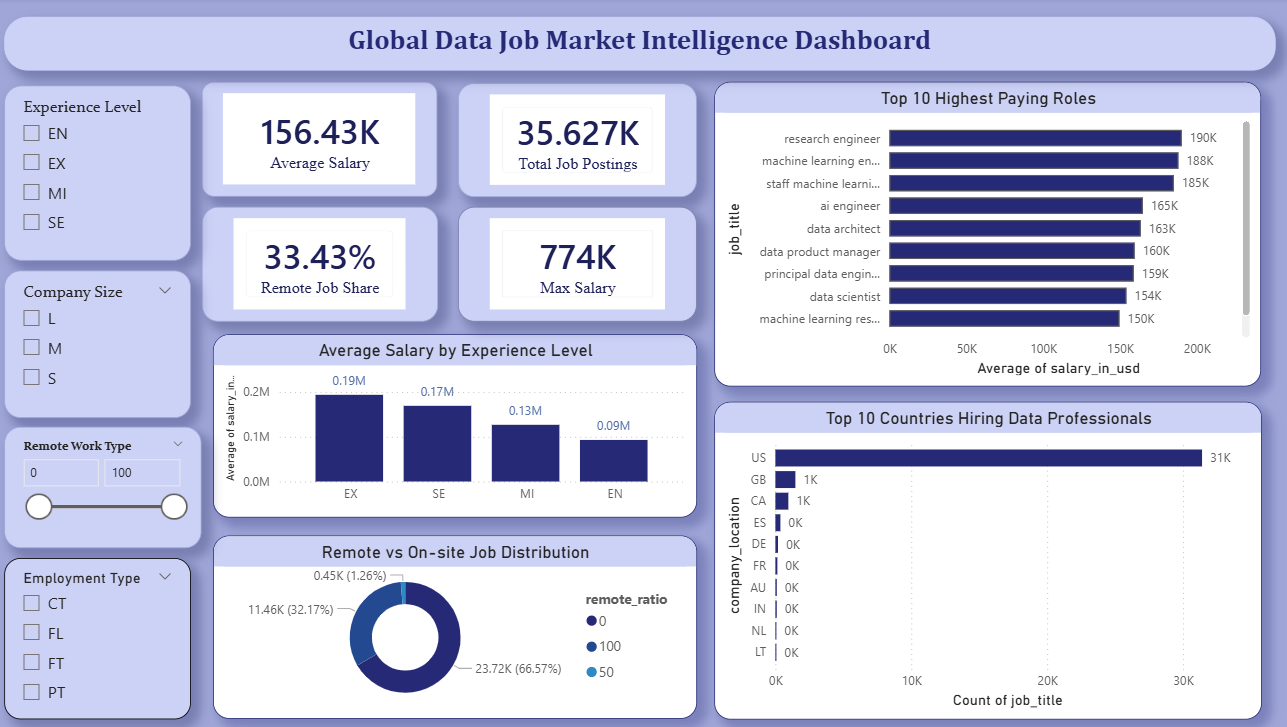

The dashboard page shown, as its layout file describes it:
{"tool":"powerbi","page":{"name":"Dashboard","canvas":[1280,720],"ordinal":0},"visuals":[{"type":"cardVisual","fields":{"Data":["CountNonNull(final_job_market_dataset.job_title)"]},"box":[456.4,83.4,234.4,111.7],"z":0},{"type":"cardVisual","fields":{"Data":["Avg(final_job_market_dataset.salary_in_usd)"]},"box":[204.9,82.2,231,112.9],"z":1000},{"type":"cardVisual","fields":{"Data":["final_job_market_dataset.Remote Job %"]},"box":[204.9,204.9,231.9,112.9],"z":2000},{"type":"clusteredColumnChart","title":"Average Salary by Experience Level","fields":{"Category":["final_job_market_dataset.experience_level"],"Y":["Avg(final_job_market_dataset.salary_in_usd)"]},"box":[216,330.1,474.8,180.4],"z":3000},{"type":"barChart","title":"Top 10 Highest Paying Roles","fields":{"Category":["final_job_market_dataset.job_title"],"Y":["Avg(final_job_market_dataset.salary_in_usd)"]},"box":[708.3,82.3,536.9,299.5],"z":4000},{"type":"donutChart","title":"Remote vs On-site Job Distribution","fields":{"Category":["final_job_market_dataset.remote_ratio"],"Y":["CountNonNull(final_job_market_dataset.job_title)"]},"box":[216,527.6,474.8,180.4],"z":5000},{"type":"clusteredBarChart","title":"Top 10 Countries Hiring Data Professionals","fields":{"Category":["final_job_market_dataset.company_location"],"Y":["CountNonNull(final_job_market_dataset.job_title)"]},"box":[708,396.3,537.4,311.7],"z":6000},{"type":"textbox","box":[11,18.4,1247.9,52.8],"z":7000},{"type":"slicer","title":"Experience Level","fields":{"Values":["final_job_market_dataset.experience_level"]},"box":[11,85.9,182.8,171.8],"z":8000},{"type":"slicer","fields":{"Values":["final_job_market_dataset.company_size"]},"box":[11,267.5,182.8,144.8],"z":9000},{"type":"slicer","fields":{"Values":["final_job_market_dataset.remote_ratio"]},"box":[11,420.9,193.9,119],"z":10000},{"type":"slicer","fields":{"Values":["final_job_market_dataset.employment_type"]},"box":[11,549.7,182.8,158.3],"z":11000},{"type":"cardVisual","fields":{"Data":["final_job_market_dataset.Max Salary"]},"box":[456.4,204.9,234.4,112.9],"z":12000},{"type":"actionButton","box":[1202.5,23.3,56.4,42.9],"z":13000}]}

Visuals, with their boxes in screenshot pixels (x1, y1, x2, y2), scaled from the page's 1280x720 canvas onto the 1287x727 screenshot:
cardVisual - CountNonNull(final_job_market_dataset.job_title): detection(459, 84, 695, 197)
cardVisual - Avg(final_job_market_dataset.salary_in_usd): detection(206, 83, 438, 197)
cardVisual - final_job_market_dataset.Remote Job %: detection(206, 207, 439, 321)
"Average Salary by Experience Level" clusteredColumnChart: detection(217, 333, 695, 515)
"Top 10 Highest Paying Roles" barChart: detection(712, 83, 1252, 386)
"Remote vs On-site Job Distribution" donutChart: detection(217, 533, 695, 715)
"Top 10 Countries Hiring Data Professionals" clusteredBarChart: detection(712, 400, 1252, 715)
textbox: detection(11, 19, 1266, 72)
"Experience Level" slicer: detection(11, 87, 195, 260)
slicer - final_job_market_dataset.company_size: detection(11, 270, 195, 416)
slicer - final_job_market_dataset.remote_ratio: detection(11, 425, 206, 545)
slicer - final_job_market_dataset.employment_type: detection(11, 555, 195, 715)
cardVisual - final_job_market_dataset.Max Salary: detection(459, 207, 695, 321)
actionButton: detection(1209, 24, 1266, 67)
